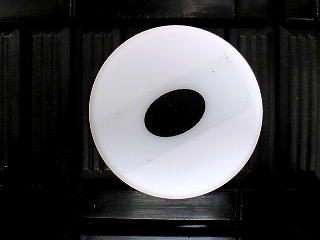BOHOEL: (88, 24, 263, 199)
